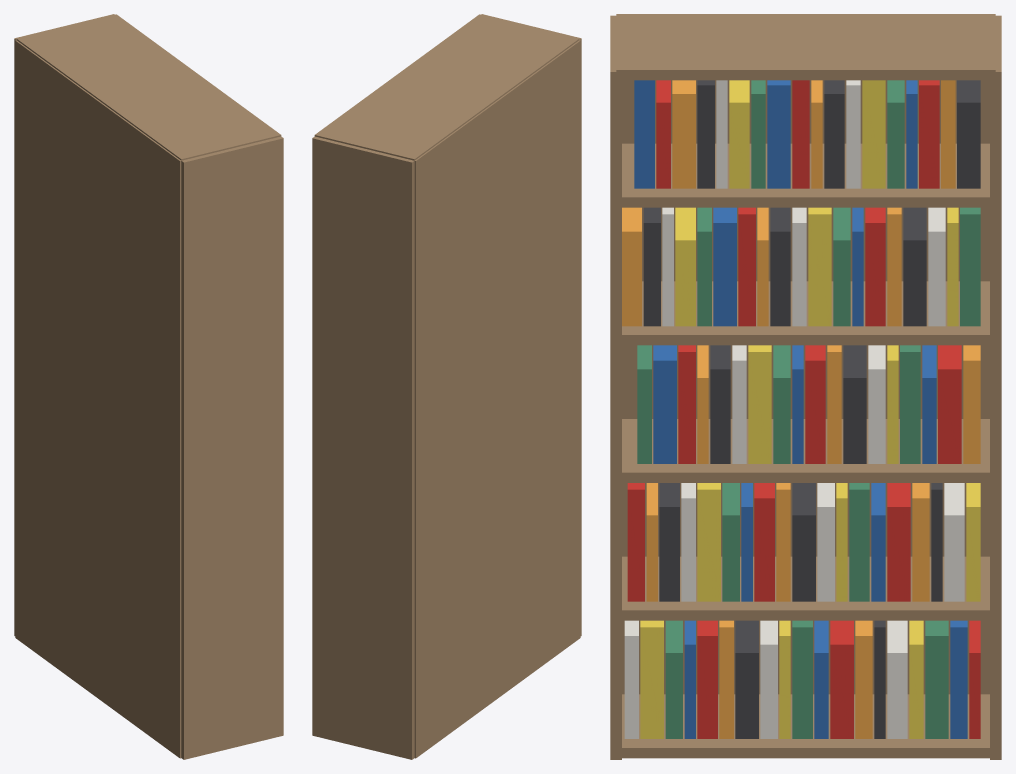
The model's file is SM_Prop_Bookshelf.glb.
The picture shows the model from 3 angles, left to right: view 1: azimuth 30°, elevation 25°; view 2: azimuth 150°, elevation 25°; view 3: azimuth 270°, elevation 25°; orthographic projection. The views are drawn at different scales.
Visible parts, largest first — view 1: SM_Prop_Bookshelf; view 2: SM_Prop_Bookshelf; view 3: SM_Prop_Bookshelf.
Boxes of the visible parts, <box> form: SM_Prop_Bookshelf: <box>14,14,283,759</box>; SM_Prop_Bookshelf: <box>312,14,581,759</box>; SM_Prop_Bookshelf: <box>610,14,1001,759</box>.
Bounding box in the file's own units: 0.355 × 2.01 × 1.03.
